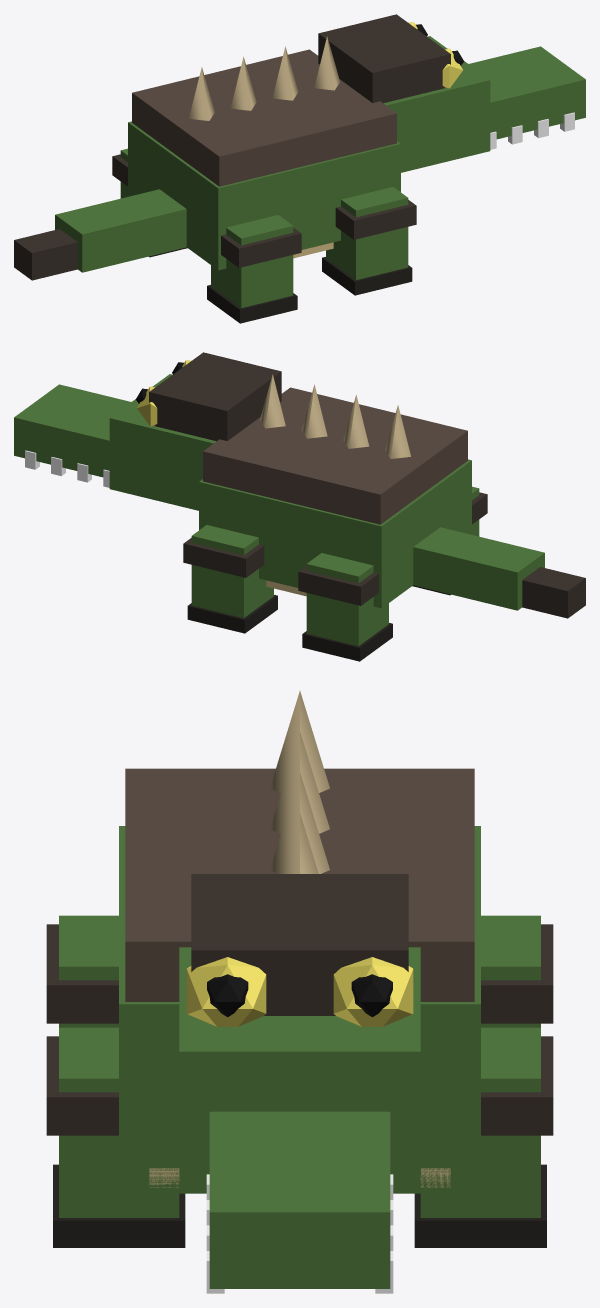
The model's file is level1.glb.
The picture shows the model from 3 angles, top to bottom: view 1: azimuth 30°, elevation 25°; view 2: azimuth 150°, elevation 25°; view 3: azimuth 270°, elevation 25°; orthographic projection. The views are drawn at different scales.
Size of the model in its own units: 33.12 by 12.08 by 13.44.
